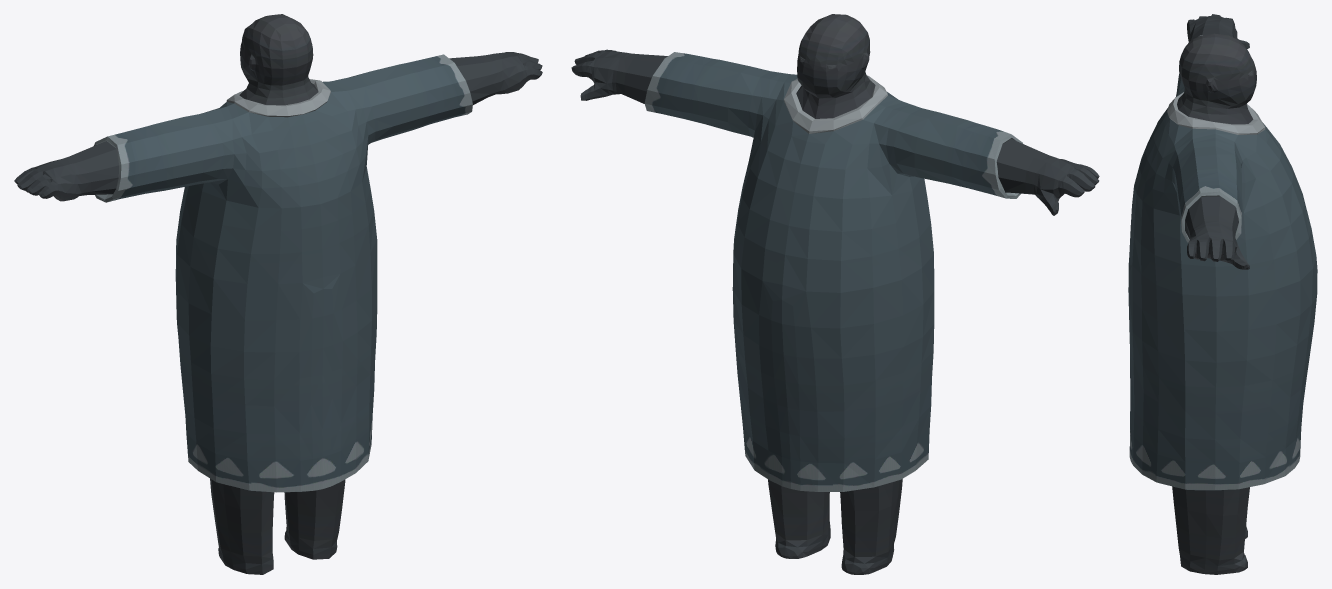
Rendered from NPC_LaborerMaleBody.glb.
The picture shows the model from 3 angles, left to right: view 1: azimuth 30°, elevation 25°; view 2: azimuth 150°, elevation 25°; view 3: azimuth 270°, elevation 25°; orthographic projection. The views are drawn at different scales.
Parts seen in each view (by area): view 1: NPC_LaborerMaleBody; view 2: NPC_LaborerMaleBody; view 3: NPC_LaborerMaleBody.
Part boxes in pixels (x1,y1,x2,y2): NPC_LaborerMaleBody: [14, 14, 542, 574]; NPC_LaborerMaleBody: [571, 14, 1099, 574]; NPC_LaborerMaleBody: [1128, 14, 1317, 574].
Size of the model in its own units: 14.05 by 13.84 by 4.61.
Materials: 1 (1 with a texture image).
